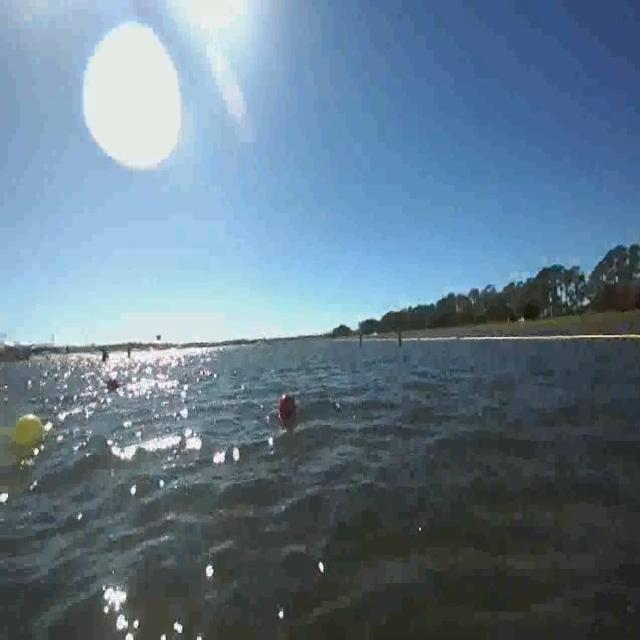red-buoy: (275, 384, 317, 457)
yellow-buoy: (15, 412, 46, 448)
